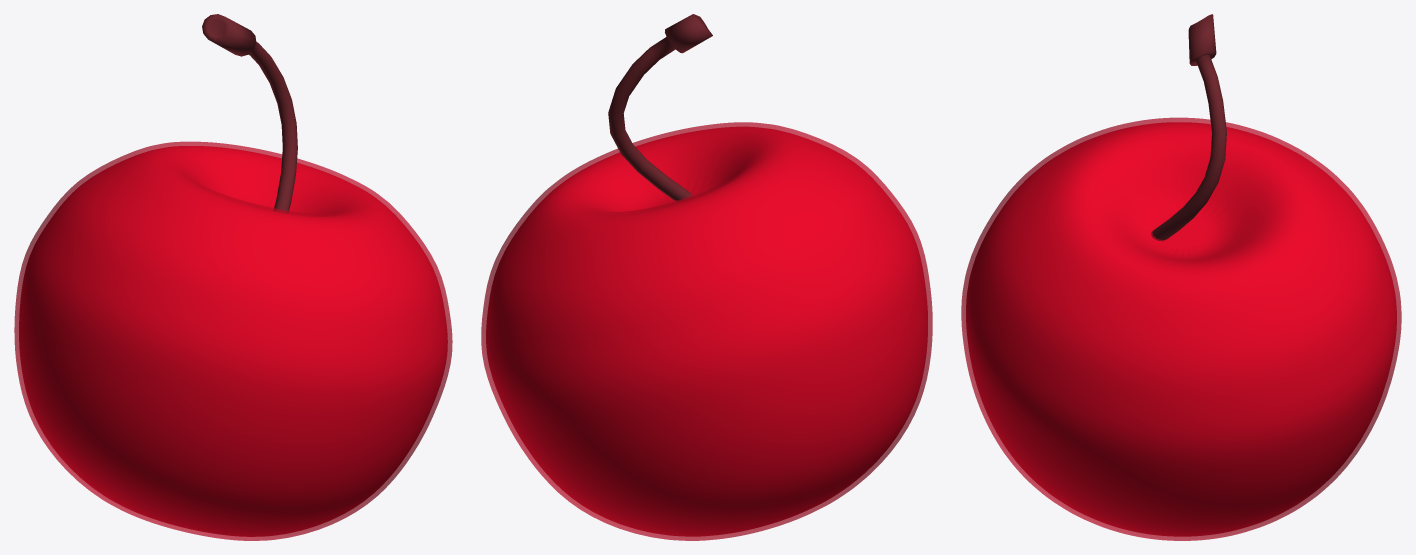
3 renders of one model, left to right at view 1: azimuth 30°, elevation 25°; view 2: azimuth 150°, elevation 25°; view 3: azimuth 270°, elevation 25°, orthographic. The views are drawn at different scales.
Visible parts, largest first — view 1: 球体, 球体.001, 贝塞尔曲线.001; view 2: 球体, 球体.001, 贝塞尔曲线.001; view 3: 球体, 球体.001, 贝塞尔曲线.001.
Boxes of the visible parts, bbox=[...] form: 球体: bbox=[14, 141, 452, 540]; 球体.001: bbox=[19, 146, 447, 536]; 贝塞尔曲线.001: bbox=[202, 14, 297, 213]; 球体: bbox=[481, 122, 932, 540]; 球体.001: bbox=[486, 126, 927, 536]; 贝塞尔曲线.001: bbox=[608, 14, 712, 201]; 球体: bbox=[961, 117, 1401, 540]; 球体.001: bbox=[966, 122, 1396, 536]; 贝塞尔曲线.001: bbox=[1151, 14, 1226, 241].
Size of the model in its own units: 0.4527 by 0.5662 by 0.4558.
